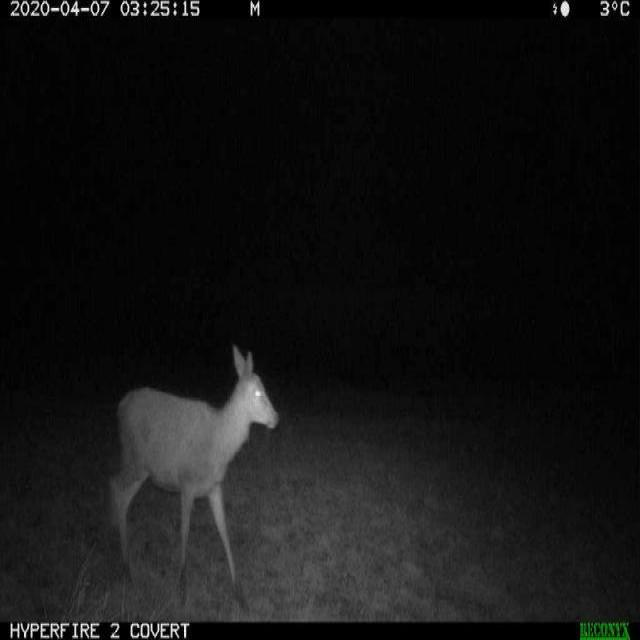deer: (82, 323, 298, 594)
